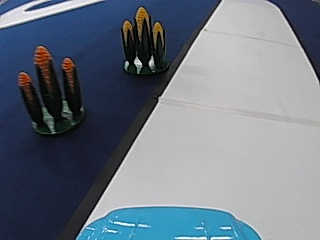corn: (20, 48, 87, 137), (118, 5, 170, 75)
